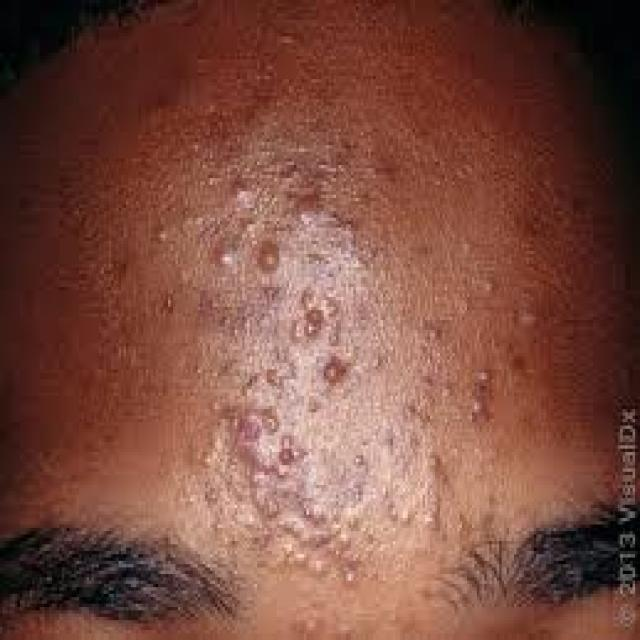Acne: (207, 184, 511, 570)
